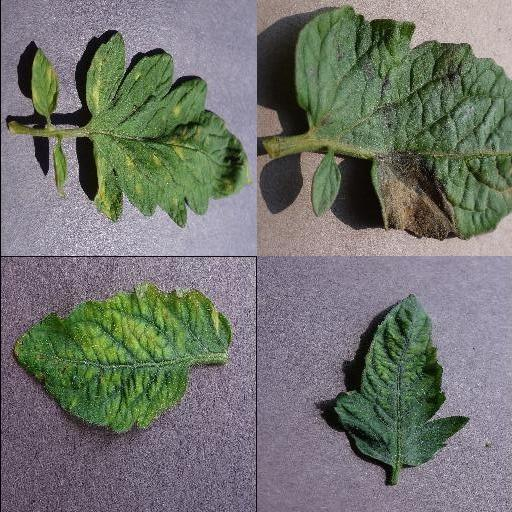Late Blight: (293, 2, 512, 242)
Leaf Mold: (84, 31, 252, 227), (31, 46, 59, 118)
Mosaic Virus: (9, 285, 233, 434), (333, 294, 472, 469)
